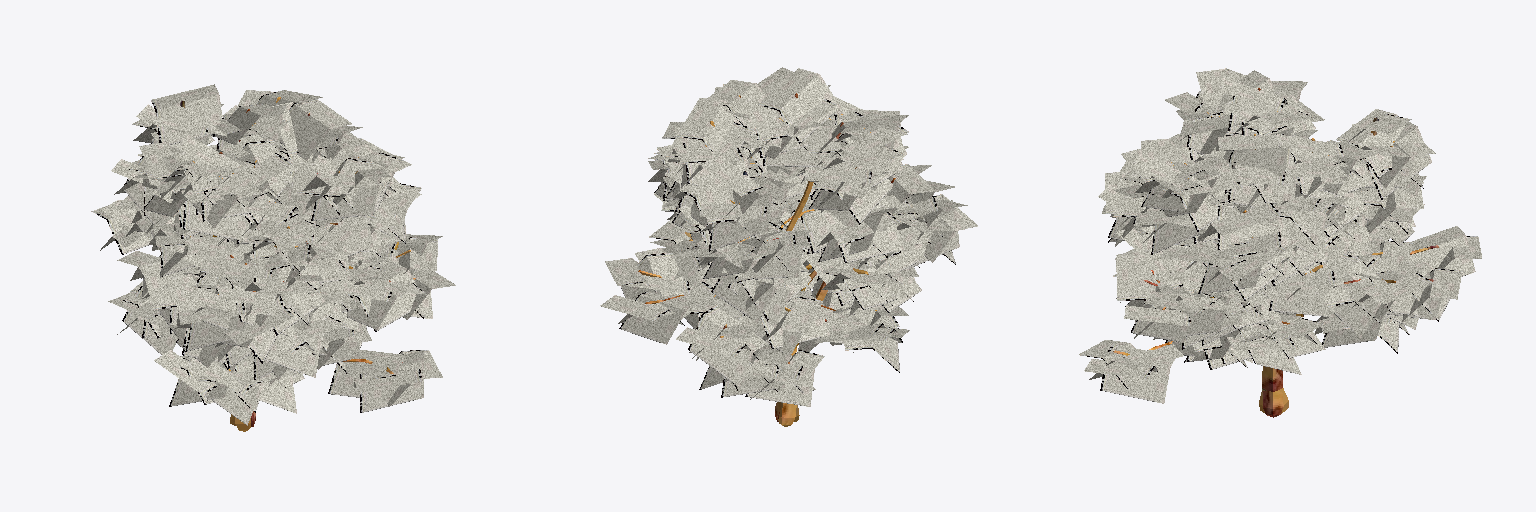
3 views of the same model, side by side, from view 1: azimuth 30°, elevation 25°; view 2: azimuth 150°, elevation 25°; view 3: azimuth 270°, elevation 25° (orthographic).
Parts seen in each view (by area): view 1: Arbol7; view 2: Arbol7; view 3: Arbol7.
Part boxes in pixels (bbox=[...]): Arbol7: bbox=[91, 84, 455, 431]; Arbol7: bbox=[600, 67, 977, 426]; Arbol7: bbox=[1079, 68, 1481, 417].
Bounding box in the file's own units: 12.66 × 14.07 × 15.48.
1 materials, 1 textured.